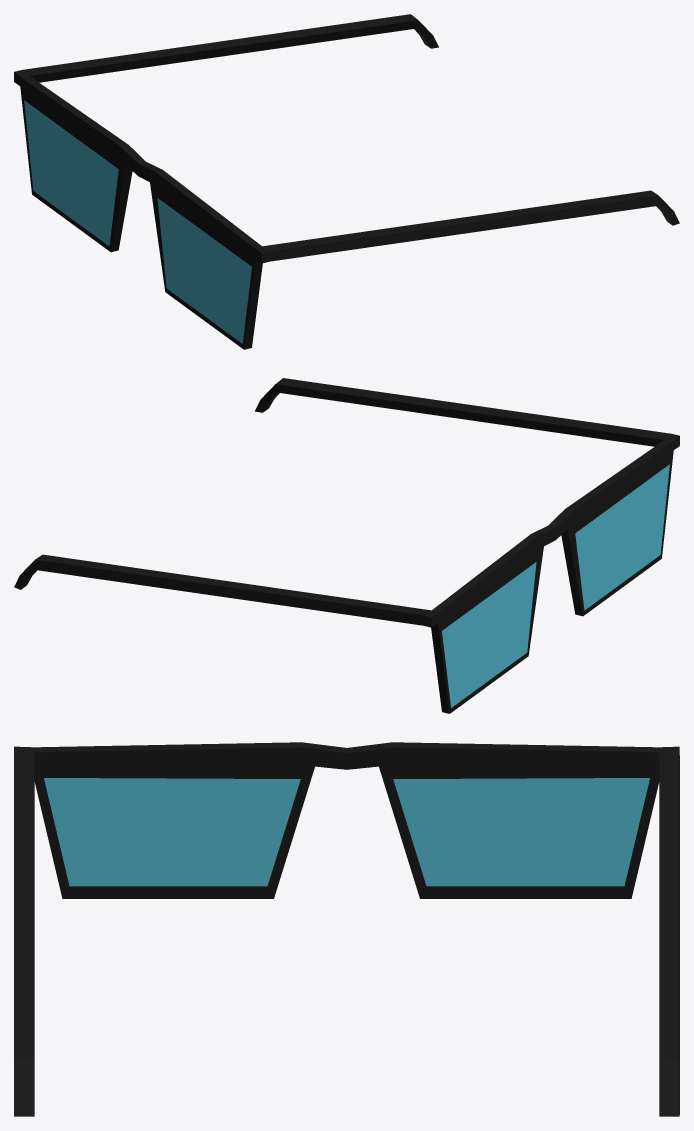
File: Glasses_Square.obj
The picture shows the model from 3 angles, top to bottom: view 1: azimuth 30°, elevation 25°; view 2: azimuth 150°, elevation 25°; view 3: azimuth 270°, elevation 25°; orthographic projection. The views are drawn at different scales.
Parts seen in each view (by area): view 1: Box030, Object016; view 2: Box030, Object016; view 3: Object018, Box030.
Part boxes in pixels (box(x1,y1,x2,y2)): Box030: box(14, 14, 679, 349); Object016: box(24, 100, 251, 343); Box030: box(14, 378, 679, 713); Object016: box(442, 464, 669, 707); Object018: box(44, 778, 649, 886); Box030: box(14, 742, 679, 1116).
Bounding box in the file's own units: 28.29 × 7.31 × 29.1.
